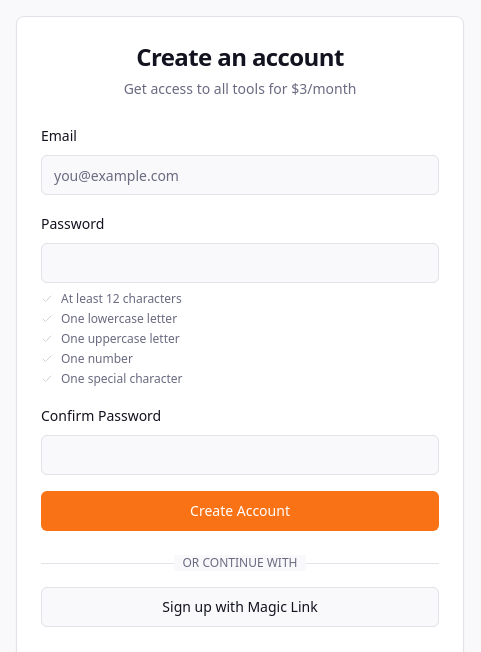
Test: RegisterPage › shows error when email is already registered
Type "existing@example.com" into the field labelled "Email" at (240, 175), box [41,155,439,195]
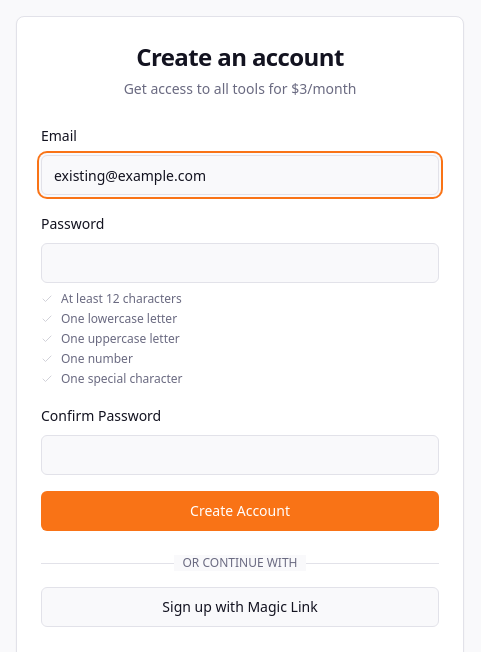
Type "ValidPass123!" into the password field labelled "Password" at (240, 263), box [41,243,439,283]
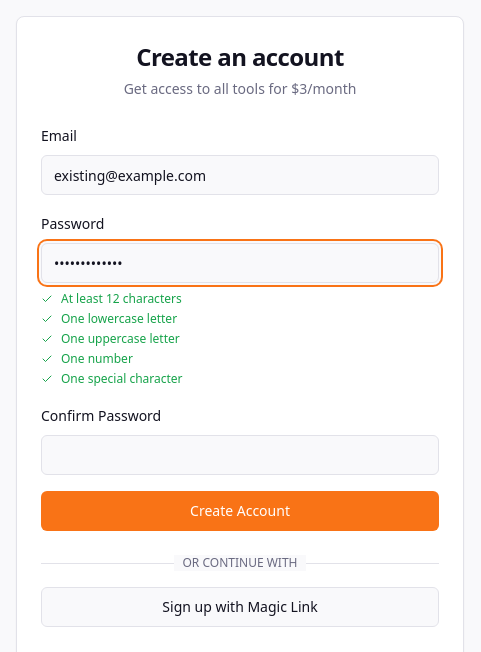
Type "ValidPass123!" into the password field labelled "Confirm Password" at (240, 455), box [41,435,439,475]
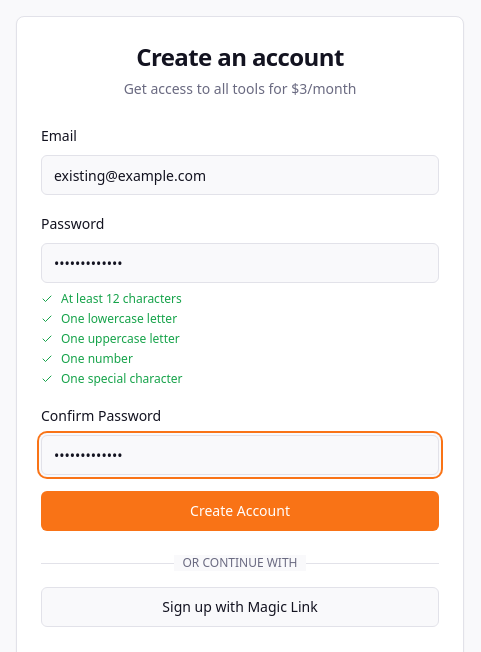
Click the button "Create Account" at (240, 511), box [41,491,439,531]
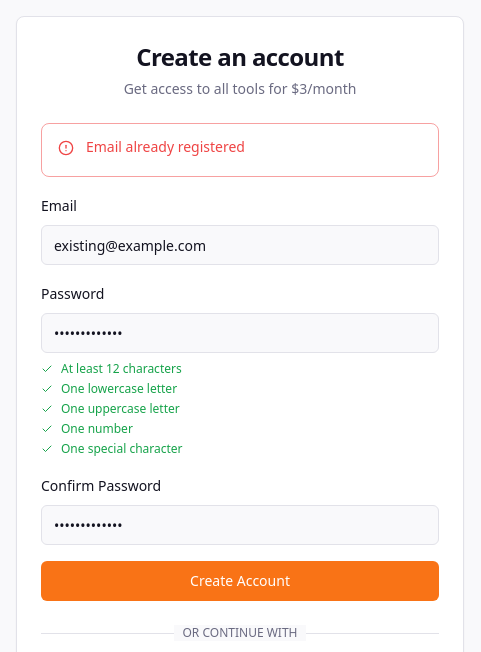
Result: the text "Email already registered" is shown at [86,137,245,156]
